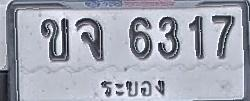1: (188, 15, 205, 59)
3: (158, 16, 180, 58)
6: (129, 16, 152, 59)
7: (212, 13, 234, 58)
A02: (40, 17, 70, 61)
A08: (75, 16, 104, 60)
RYG: (98, 76, 168, 101)
